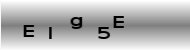5: (95, 25, 111, 41)
E: (22, 23, 35, 38), (112, 15, 125, 29)
g: (69, 15, 83, 31)
l: (46, 25, 54, 40)
